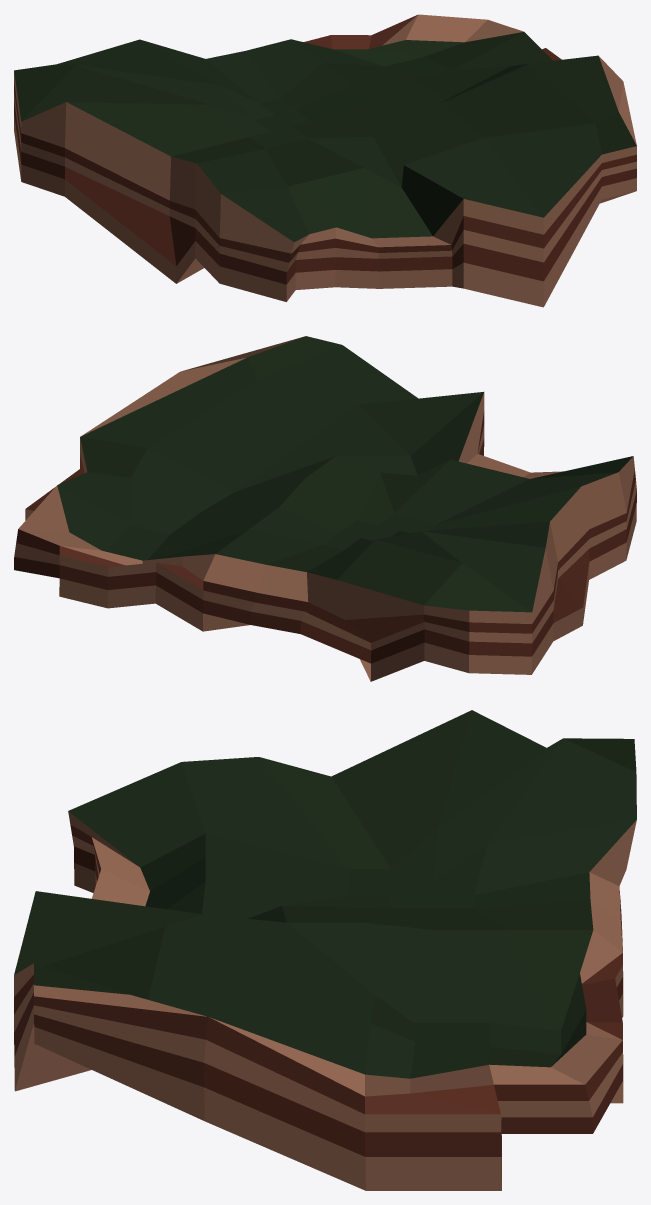
File: chao5.fbx
3 views of the same model, one above another, from view 1: azimuth 30°, elevation 25°; view 2: azimuth 150°, elevation 25°; view 3: azimuth 270°, elevation 25° (orthographic). The views are drawn at different scales.
Visible parts, largest first — view 1: Cube.001; view 2: Cube.001; view 3: Cube.001.
Boxes of the visible parts, x1,y1,x2,y2 form: Cube.001: (14, 14, 636, 307); Cube.001: (14, 336, 636, 681); Cube.001: (14, 710, 636, 1190).
Bounding box in the file's own units: 822 × 231 × 678.
